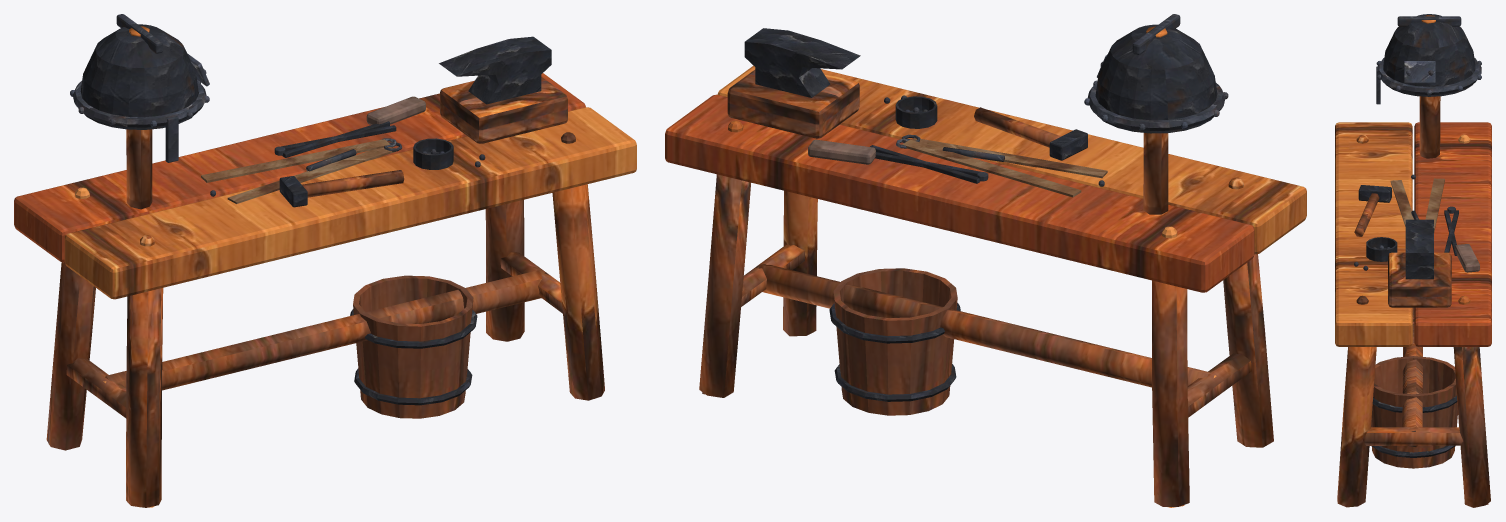
Rendered from ro_armour_bench.glb.
3 renders of one model, left to right at view 1: azimuth 30°, elevation 25°; view 2: azimuth 150°, elevation 25°; view 3: azimuth 270°, elevation 25°, orthographic. The views are drawn at different scales.
Visible parts, largest first — view 1: model; view 2: model; view 3: model.
Part boxes in pixels (bbox=[...]): model: bbox=[14, 14, 636, 507]; model: bbox=[665, 14, 1306, 507]; model: bbox=[1335, 14, 1491, 507].
Bounding box in the file's own units: 1.5 × 1.16 × 0.494.
Materials: 17 (17 with a texture image).
